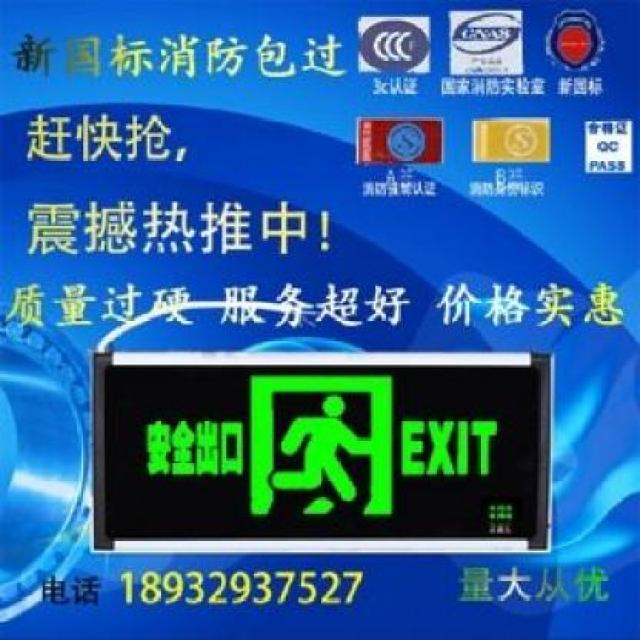exit_sign: (88, 349, 552, 554)
